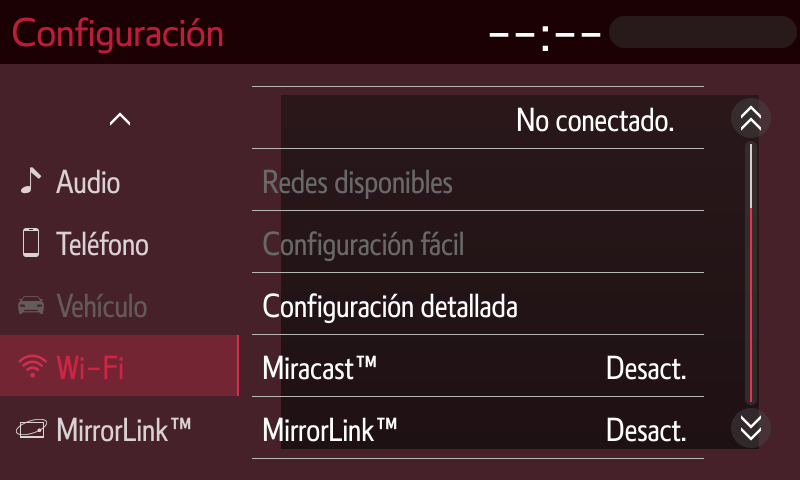touchPart: (250, 329, 706, 404), (251, 391, 708, 464), (251, 268, 712, 339), (251, 83, 707, 152), (17, 409, 201, 449), (17, 222, 152, 261), (20, 160, 125, 202), (101, 99, 147, 139), (732, 96, 774, 139), (728, 409, 775, 447)
untouchPart: (249, 144, 707, 218), (247, 205, 711, 277), (1, 333, 243, 399), (480, 11, 779, 52), (11, 12, 225, 51), (18, 285, 155, 323)
